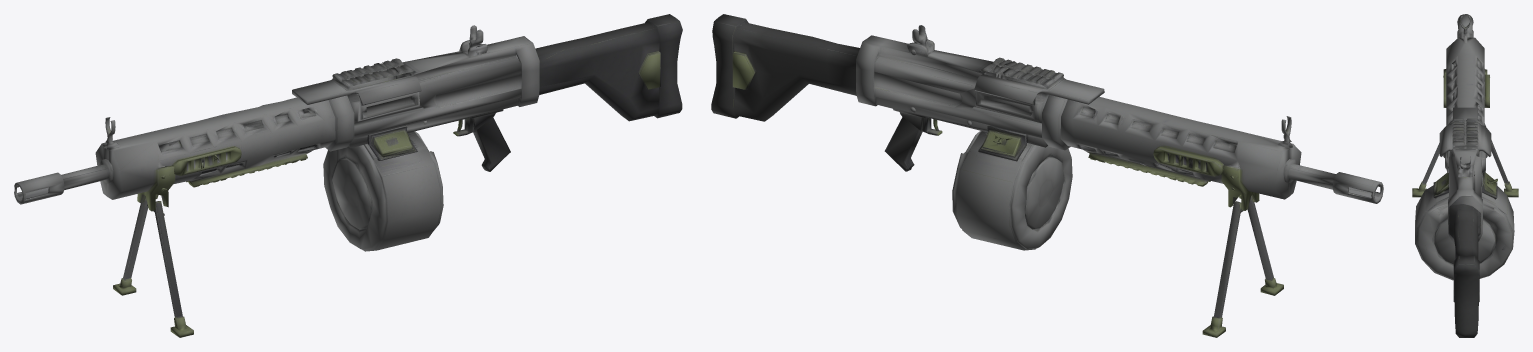
File: lmg_anvil.glb
The picture shows the model from 3 angles, left to right: view 1: azimuth 30°, elevation 25°; view 2: azimuth 150°, elevation 25°; view 3: azimuth 270°, elevation 25°; orthographic projection. The views are drawn at different scales.
Bounding box in the file's own units: 0.9575 × 0.2856 × 0.1685.
1 material, 1 textured.
